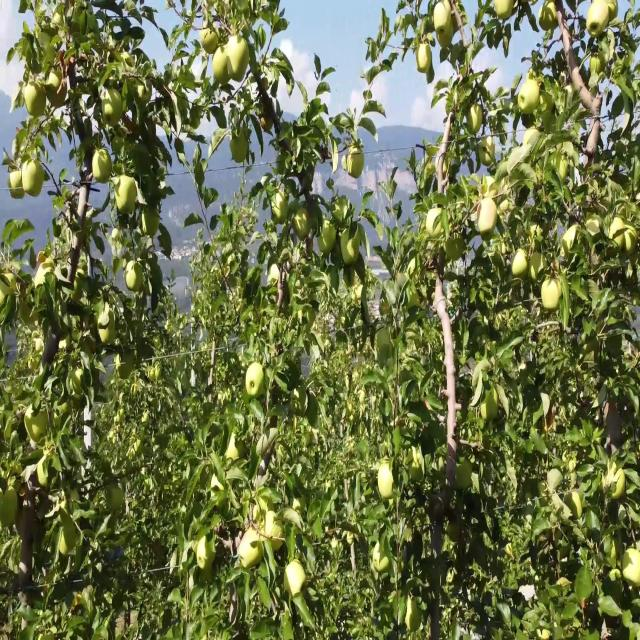apple: (23, 404, 49, 439), (228, 37, 248, 82), (114, 175, 136, 215), (239, 530, 262, 568), (585, 0, 608, 36), (21, 159, 43, 196), (46, 67, 66, 106), (101, 90, 123, 125), (476, 198, 497, 234), (284, 560, 306, 594), (245, 361, 264, 400), (602, 464, 625, 496), (341, 228, 360, 266), (264, 510, 282, 550), (541, 277, 563, 309), (92, 148, 112, 182), (518, 80, 539, 112), (24, 84, 45, 115), (196, 536, 214, 572), (378, 463, 396, 498), (318, 218, 335, 255), (124, 260, 143, 292), (0, 487, 16, 525), (624, 544, 640, 582), (211, 50, 229, 83), (537, 2, 558, 30), (414, 43, 432, 74), (96, 313, 115, 342), (426, 206, 443, 238), (200, 25, 219, 53), (433, 3, 452, 31), (406, 597, 421, 632), (270, 192, 288, 221), (348, 146, 364, 178), (294, 208, 310, 240), (8, 168, 24, 200), (59, 524, 75, 556), (510, 248, 527, 278), (230, 132, 248, 160), (142, 207, 160, 235), (115, 352, 133, 380), (373, 542, 388, 573), (478, 136, 495, 163), (480, 396, 498, 421), (566, 492, 582, 520), (468, 105, 483, 134), (609, 217, 625, 244), (528, 252, 544, 279), (494, 0, 514, 19), (624, 223, 636, 252), (589, 54, 603, 75), (436, 30, 452, 47), (73, 368, 83, 390), (608, 0, 618, 21)
